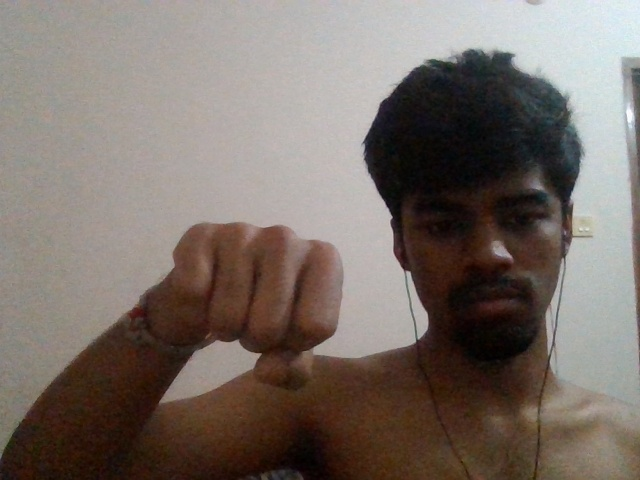Yes: (170, 216, 351, 396)
